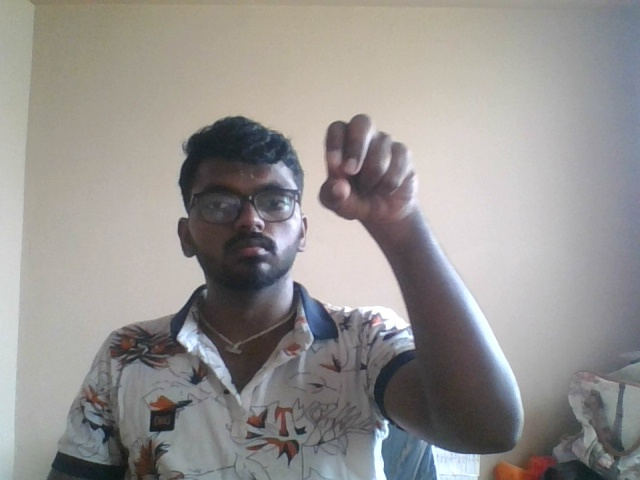No: (299, 103, 460, 299)
